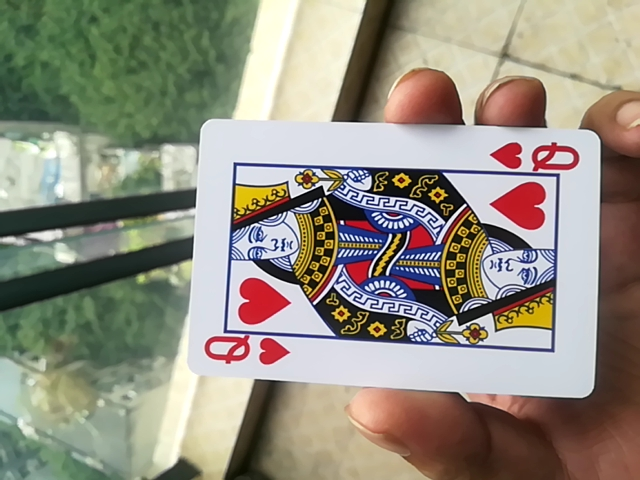hx q: (182, 116, 609, 408)
